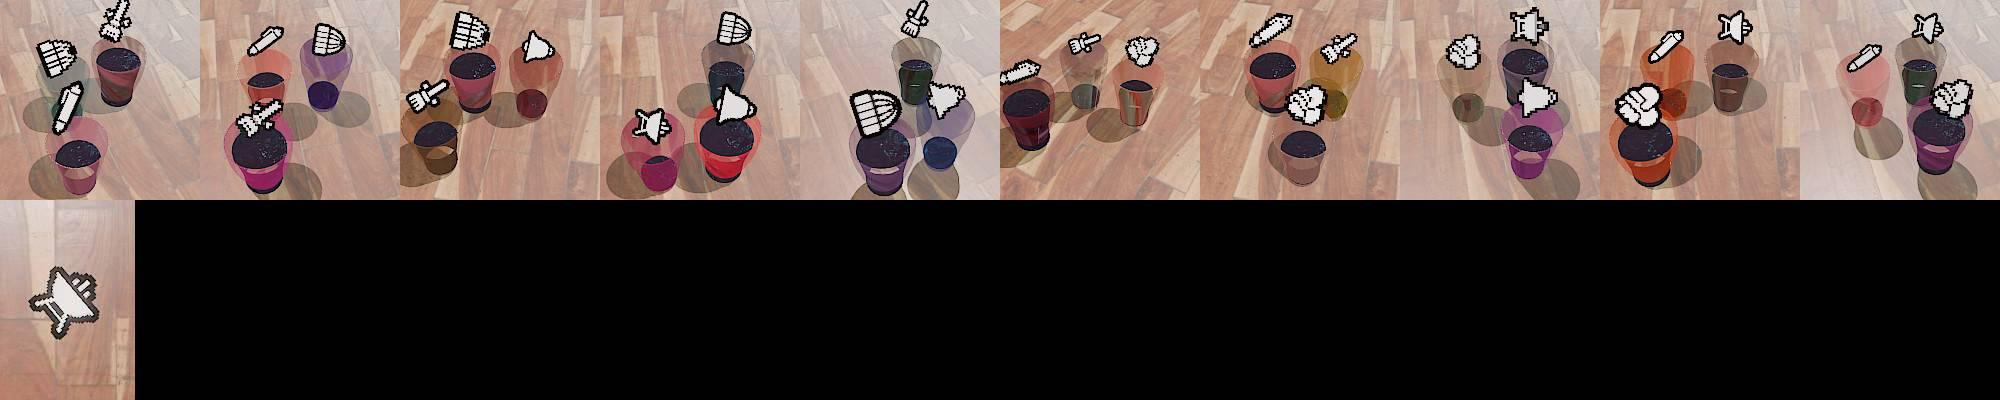icon: (27, 266, 101, 341), (851, 88, 901, 138), (1616, 84, 1663, 127), (236, 98, 286, 138), (1929, 78, 1974, 118), (51, 80, 85, 134), (710, 84, 758, 122), (1284, 84, 1328, 125), (36, 38, 79, 79), (449, 10, 491, 51), (1249, 11, 1295, 48), (1517, 75, 1557, 116), (406, 76, 450, 113), (631, 106, 672, 145), (1509, 6, 1548, 45), (926, 80, 966, 118), (98, 0, 133, 43), (1645, 28, 1685, 65), (1445, 33, 1481, 70), (1717, 9, 1754, 45), (716, 10, 753, 46), (246, 24, 284, 59), (1320, 32, 1358, 65), (999, 59, 1042, 87), (311, 22, 346, 56), (1124, 34, 1159, 68), (520, 29, 556, 62), (901, 0, 930, 38), (1847, 42, 1881, 73), (1912, 11, 1944, 43), (1068, 29, 1102, 55)
